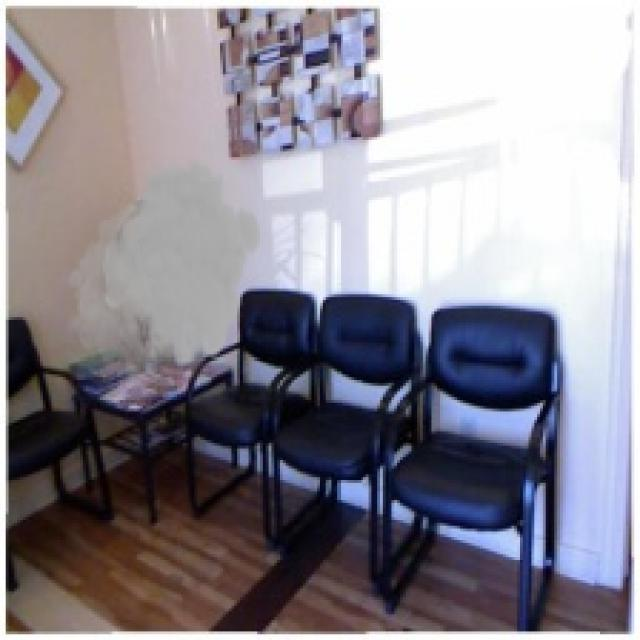Smoke: (60, 154, 263, 386)
